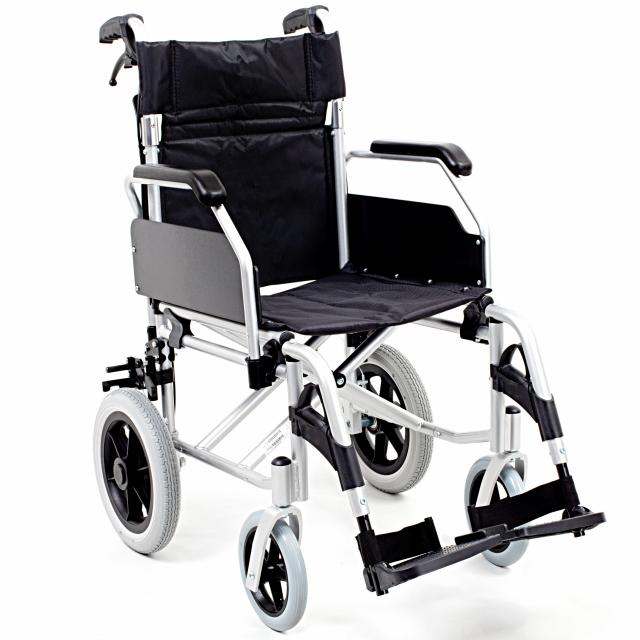wheelchair: (90, 0, 613, 640)
